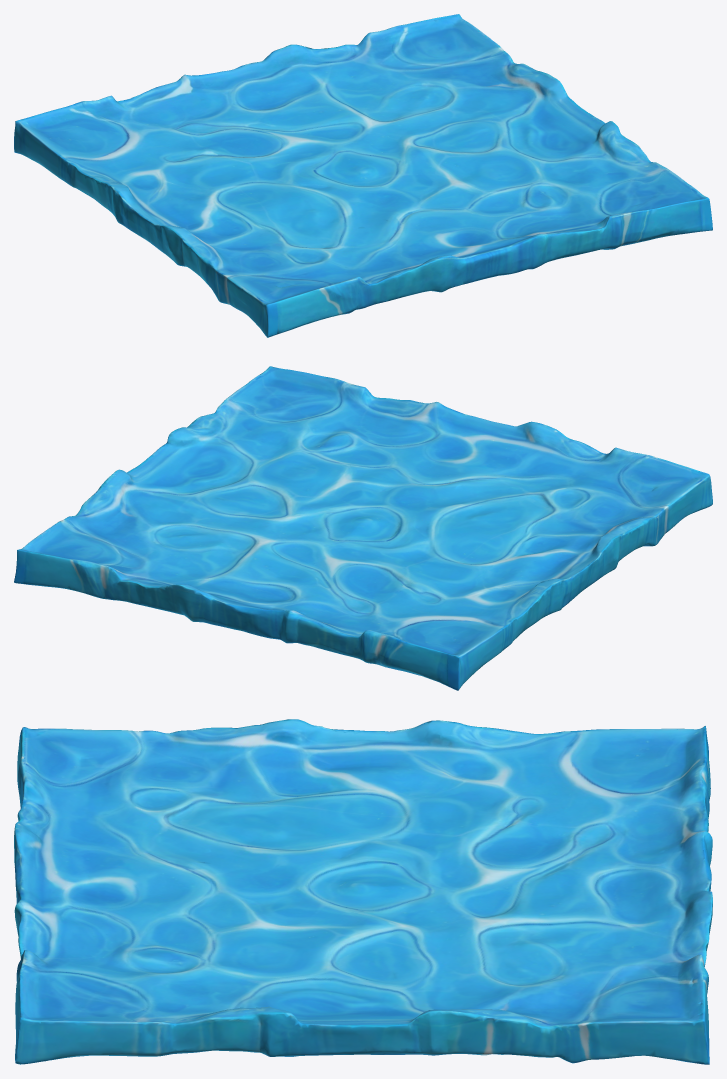
File: Meshy_AI_a_water_tile_at_a_goo_1115233258_texture.glb
The picture shows the model from 3 angles, top to bottom: view 1: azimuth 30°, elevation 25°; view 2: azimuth 150°, elevation 25°; view 3: azimuth 270°, elevation 25°; orthographic projection. The views are drawn at different scales.
Size of the model in its own units: 2 by 0.1886 by 2.
1 material, 1 textured.
